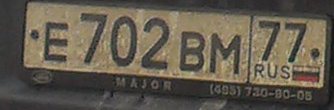character: (77, 9, 110, 67), (138, 17, 171, 70), (209, 30, 244, 77), (110, 13, 138, 69), (41, 19, 73, 65), (175, 31, 207, 72), (283, 17, 309, 64), (257, 18, 282, 63)
